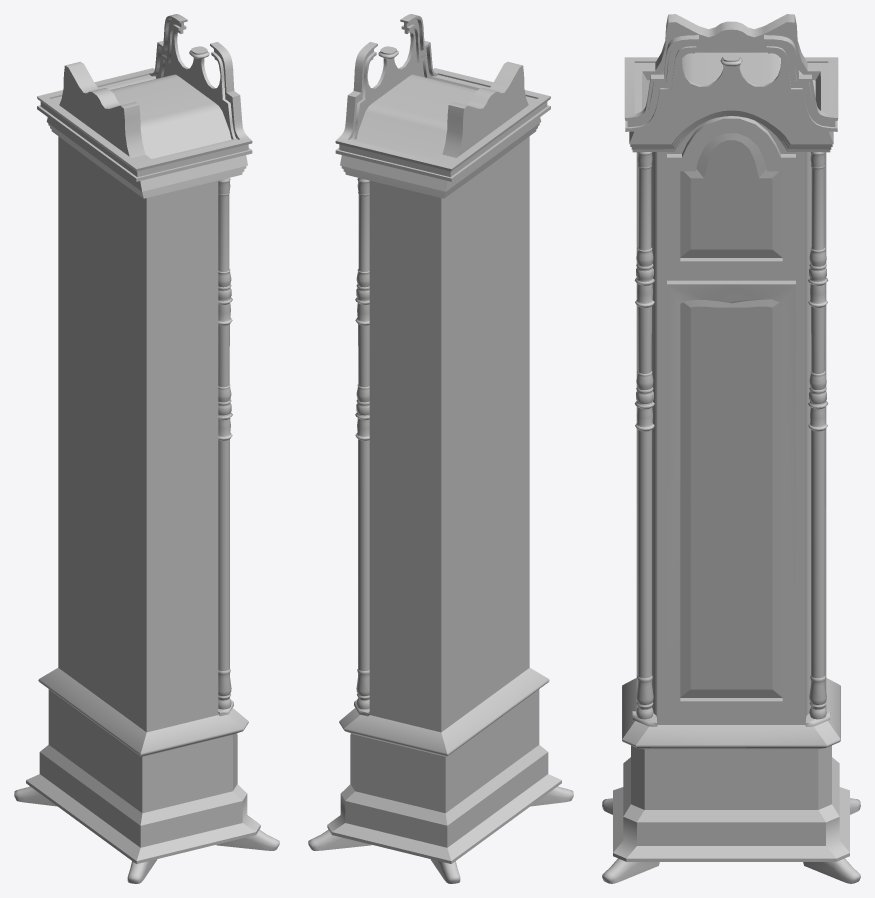
File: grandClock_LOD0.fbx
The picture shows the model from 3 angles, left to right: view 1: azimuth 30°, elevation 25°; view 2: azimuth 150°, elevation 25°; view 3: azimuth 270°, elevation 25°; orthographic projection. The views are drawn at different scales.
Visible parts, largest first — view 1: clock_LOD0; view 2: clock_LOD0; view 3: clock_LOD0.
Boxes of the visible parts, bbox=[...] form: clock_LOD0: bbox=[14, 14, 279, 883]; clock_LOD0: bbox=[308, 14, 573, 883]; clock_LOD0: bbox=[602, 14, 860, 883].
Bounding box in the file's own units: 37.84 × 187 × 52.4.
